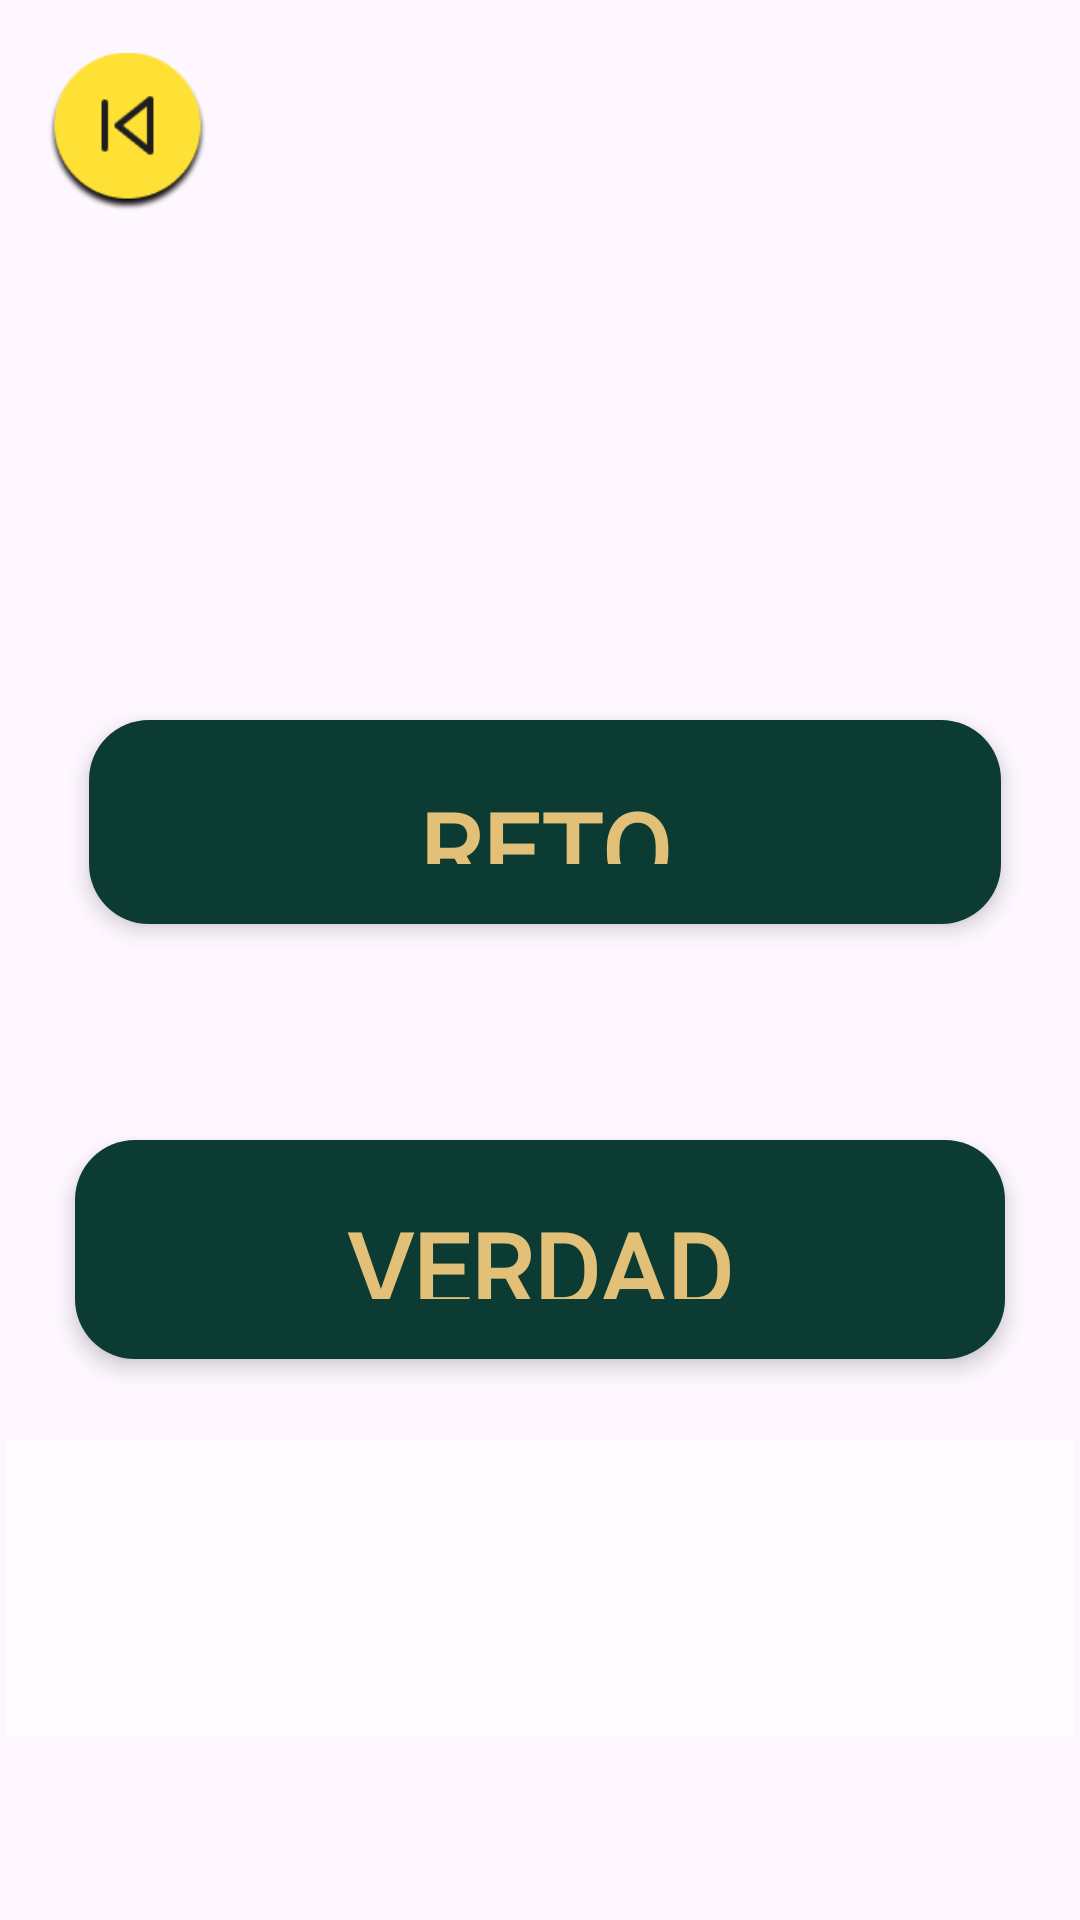

Locate icon controls on the screen. Image size 1080×1920, boxes as Rect(x1, y1, x2, y2).
Botón de retroceso: Rect(51, 53, 204, 209)
